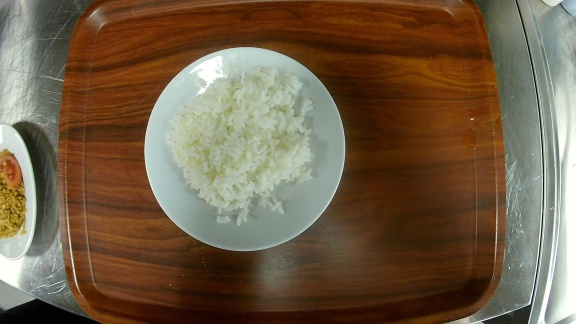pilav: (143, 47, 346, 252)
